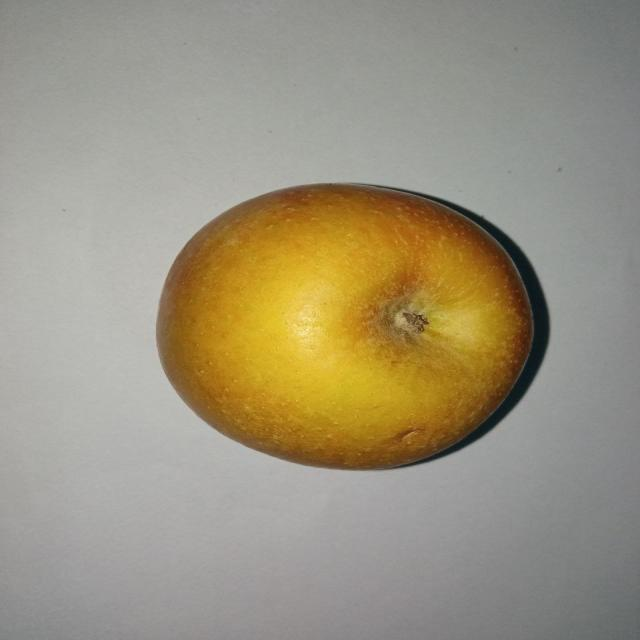fresh_apple: (151, 181, 538, 471)
